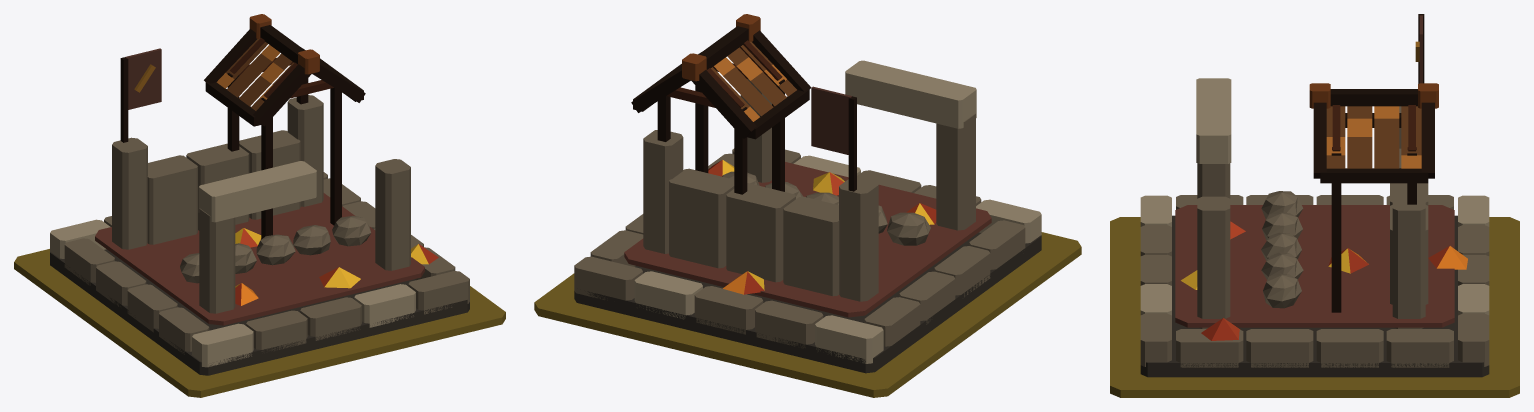
File: sunken-chapel_t6.glb
3 views of the same model, side by side, from view 1: azimuth 30°, elevation 25°; view 2: azimuth 150°, elevation 25°; view 3: azimuth 270°, elevation 25° (orthographic). The views are drawn at different scales.
Visible parts, largest first — view 1: MMR | sunken-chapel | T06 Architecture.001, MMR | sunken-chapel | Tier 06 Ground.001, MMR | sunken-chapel | T06 Autumn Dressing.001, MMR | sunken-chapel | T06 Banner Flag 1.001; view 2: MMR | sunken-chapel | T06 Architecture.001, MMR | sunken-chapel | Tier 06 Ground.001, MMR | sunken-chapel | T06 Banner Flag 1.001, MMR | sunken-chapel | T06 Autumn Dressing.001; view 3: MMR | sunken-chapel | T06 Architecture.001, MMR | sunken-chapel | Tier 06 Ground.001, MMR | sunken-chapel | T06 Autumn Dressing.001.
Part boxes in pixels (left/top/right/bottom): MMR | sunken-chapel | T06 Architecture.001: left=50, top=14, right=469, bottom=375; MMR | sunken-chapel | Tier 06 Ground.001: left=14, top=249, right=505, bottom=397; MMR | sunken-chapel | T06 Autumn Dressing.001: left=235, top=228, right=438, bottom=305; MMR | sunken-chapel | T06 Banner Flag 1.001: left=125, top=48, right=161, bottom=109; MMR | sunken-chapel | T06 Architecture.001: left=574, top=14, right=1041, bottom=373; MMR | sunken-chapel | Tier 06 Ground.001: left=534, top=232, right=1081, bottom=397; MMR | sunken-chapel | T06 Banner Flag 1.001: left=811, top=86, right=851, bottom=154; MMR | sunken-chapel | T06 Autumn Dressing.001: left=708, top=159, right=936, bottom=294; MMR | sunken-chapel | T06 Architecture.001: left=1140, top=14, right=1489, bottom=377; MMR | sunken-chapel | Tier 06 Ground.001: left=1110, top=217, right=1519, bottom=397; MMR | sunken-chapel | T06 Autumn Dressing.001: left=1181, top=221, right=1467, bottom=340.
Bounding box in the file's own units: 2.35 × 1.59 × 2.35.
Materials: 1 (1 with a texture image).
